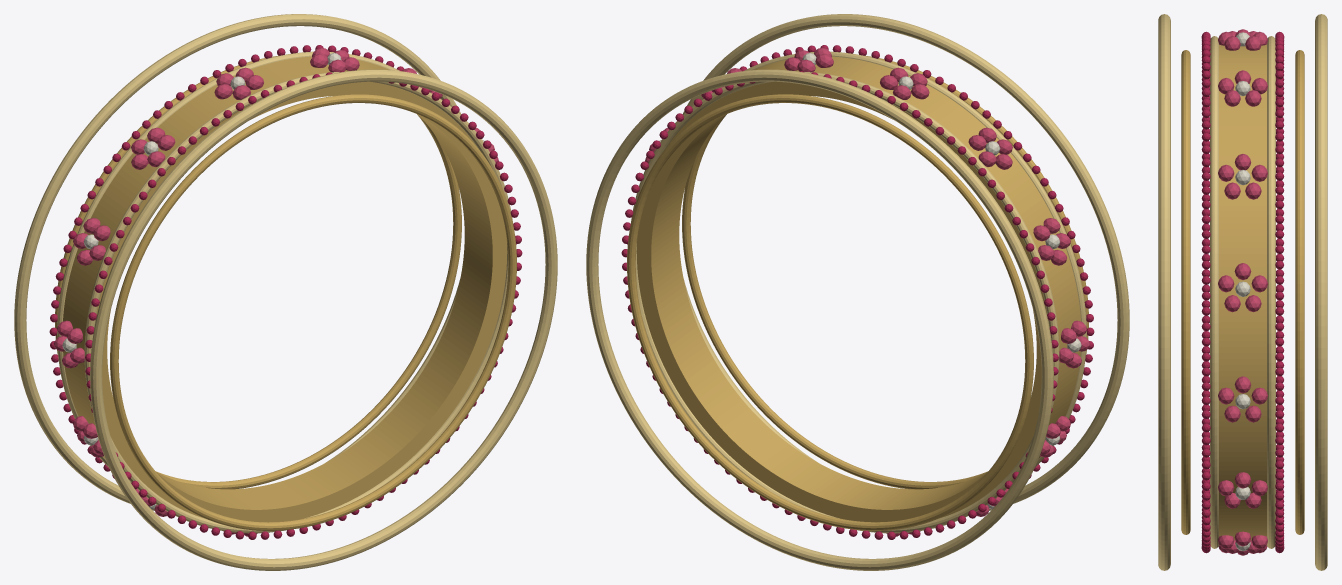
The model's file is bangle.glb.
3 views of the same model, side by side, from view 1: azimuth 30°, elevation 25°; view 2: azimuth 150°, elevation 25°; view 3: azimuth 270°, elevation 25° (orthographic). The views are drawn at different scales.
Visible parts, largest first — view 1: wide_floral_gold_band_000, upper_beaded_wire_295, inner_ruby_trim_top_521, lower_beaded_wire_296, upper_gold_rim_001, inner_ruby_trim_bottom_522, lower_gold_rim_002; view 2: wide_floral_gold_band_000, lower_beaded_wire_296, inner_ruby_trim_bottom_522, upper_beaded_wire_295, lower_gold_rim_002, inner_ruby_trim_top_521, upper_gold_rim_001; view 3: wide_floral_gold_band_000, upper_beaded_wire_295, lower_beaded_wire_296, inner_ruby_trim_top_521, inner_ruby_trim_bottom_522, upper_gold_rim_001, lower_gold_rim_002.
Boxes of the visible parts, x1,y1,x2,y2 form: wide_floral_gold_band_000: (63,56,507,522); upper_beaded_wire_295: (90,69,557,570); inner_ruby_trim_top_521: (110,94,516,530); lower_beaded_wire_296: (14,14,461,510); upper_gold_rim_001: (84,72,512,533); inner_ruby_trim_bottom_522: (55,55,461,489); lower_gold_rim_002: (57,51,399,482); wide_floral_gold_band_000: (636,56,1080,522); lower_beaded_wire_296: (586,69,1053,570); inner_ruby_trim_bottom_522: (627,94,1033,530); upper_beaded_wire_295: (682,14,1129,510); lower_gold_rim_002: (631,72,1059,533); inner_ruby_trim_top_521: (682,55,1088,489); upper_gold_rim_001: (744,51,1086,482); wide_floral_gold_band_000: (1219,44,1266,545); upper_beaded_wire_295: (1158,14,1170,570); lower_beaded_wire_296: (1315,14,1327,570); inner_ruby_trim_top_521: (1181,50,1190,534); inner_ruby_trim_bottom_522: (1295,50,1304,534); upper_gold_rim_001: (1210,36,1218,548); lower_gold_rim_002: (1267,36,1275,548).
Bounding box in the file's own units: 2.2 × 2.2 × 0.67.
